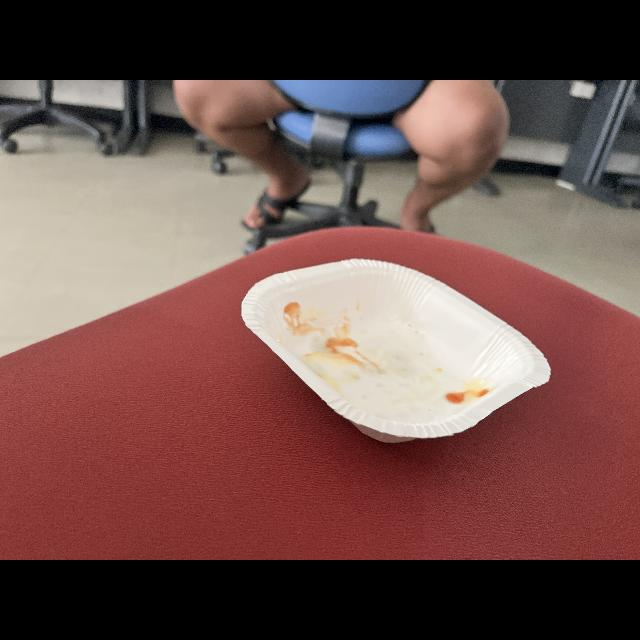cardboard_bowl: (234, 253, 556, 444)
